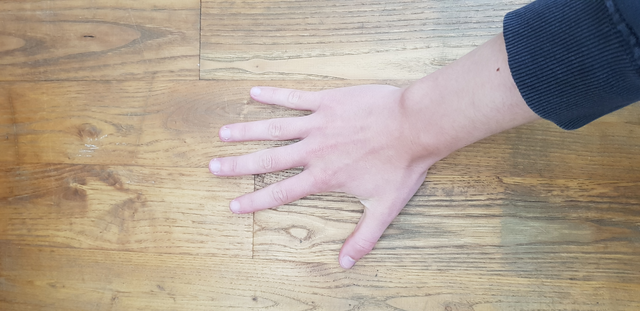Paper: (182, 68, 454, 285)
